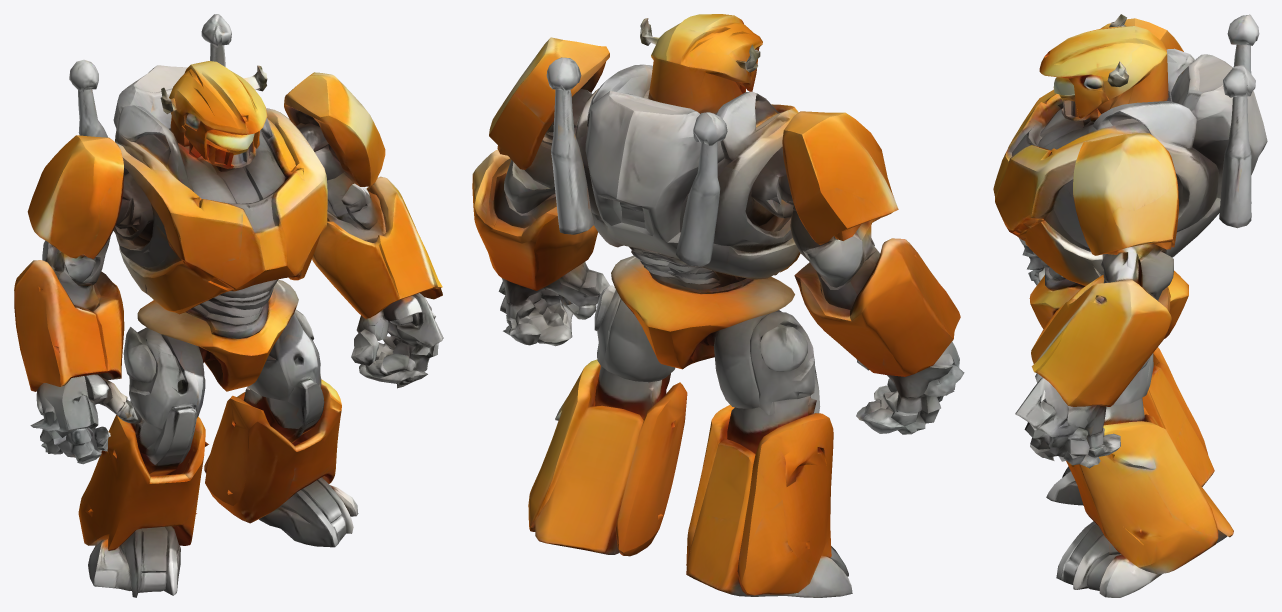
Rendered from m2MegaRobotBoss.glb.
The picture shows the model from 3 angles, left to right: view 1: azimuth 30°, elevation 25°; view 2: azimuth 150°, elevation 25°; view 3: azimuth 270°, elevation 25°; orthographic projection. The views are drawn at different scales.
Visible parts, largest first — view 1: model; view 2: model; view 3: model.
Boxes of the visible parts, left/top/right/bottom form: model: left=14, top=14, right=443, bottom=597; model: left=472, top=14, right=964, bottom=597; model: left=993, top=14, right=1267, bottom=597.
Size of the model in its own units: 1.69 by 1.9 by 0.9361.
Materials: 1 (1 with a texture image).
